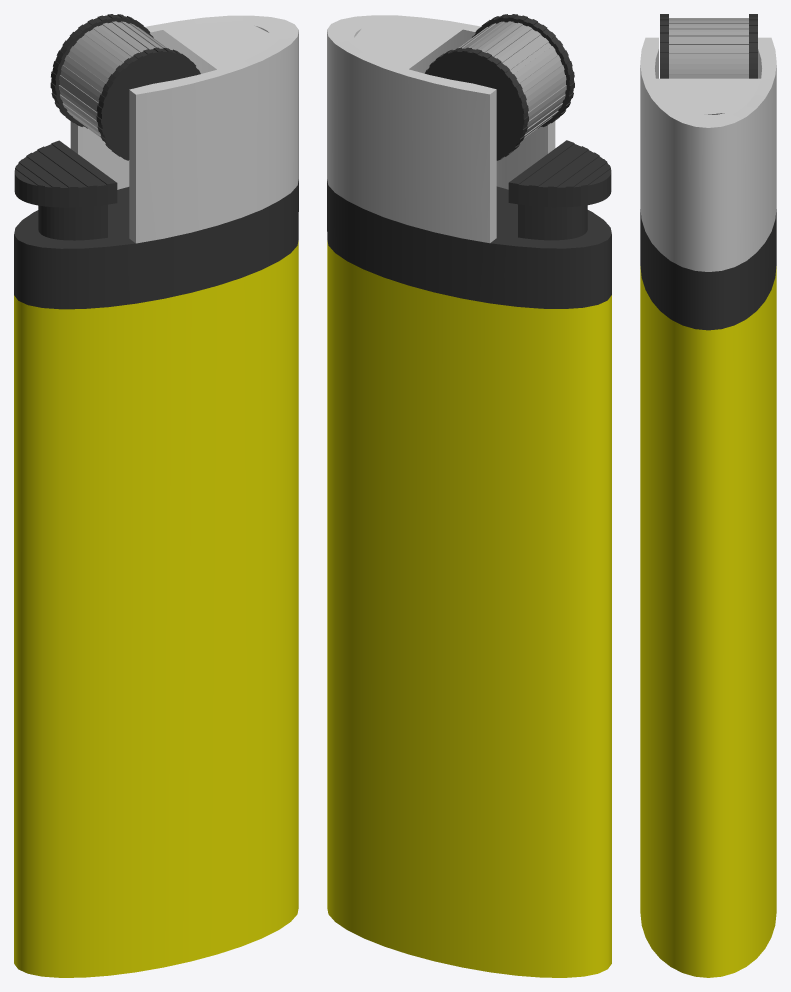
The model's file is Lighter.fbx.
3 views of the same model, side by side, from view 1: azimuth 30°, elevation 25°; view 2: azimuth 150°, elevation 25°; view 3: azimuth 270°, elevation 25° (orthographic). The views are drawn at different scales.
Parts seen in each view (by area): view 1: Body; view 2: Body; view 3: Body.
Part boxes in pixels (x1,y1,x2,y2): Body: (14,14,298,977); Body: (327,14,611,977); Body: (640,14,776,977).
Size of the model in its own units: 194 by 611 by 85.81.
